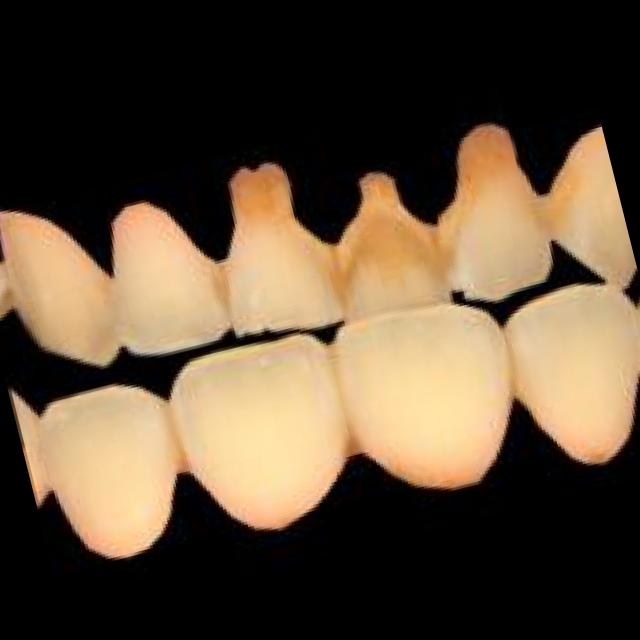cavity: (328, 167, 436, 288), (225, 158, 298, 234), (454, 122, 521, 184), (526, 190, 566, 240), (162, 424, 197, 480), (341, 434, 366, 464)
tooth: (330, 298, 538, 526), (170, 334, 358, 546), (38, 361, 213, 582), (192, 144, 348, 356), (502, 277, 640, 493), (422, 116, 566, 313), (304, 158, 460, 336), (88, 188, 240, 368), (0, 187, 127, 389), (535, 129, 640, 304)
